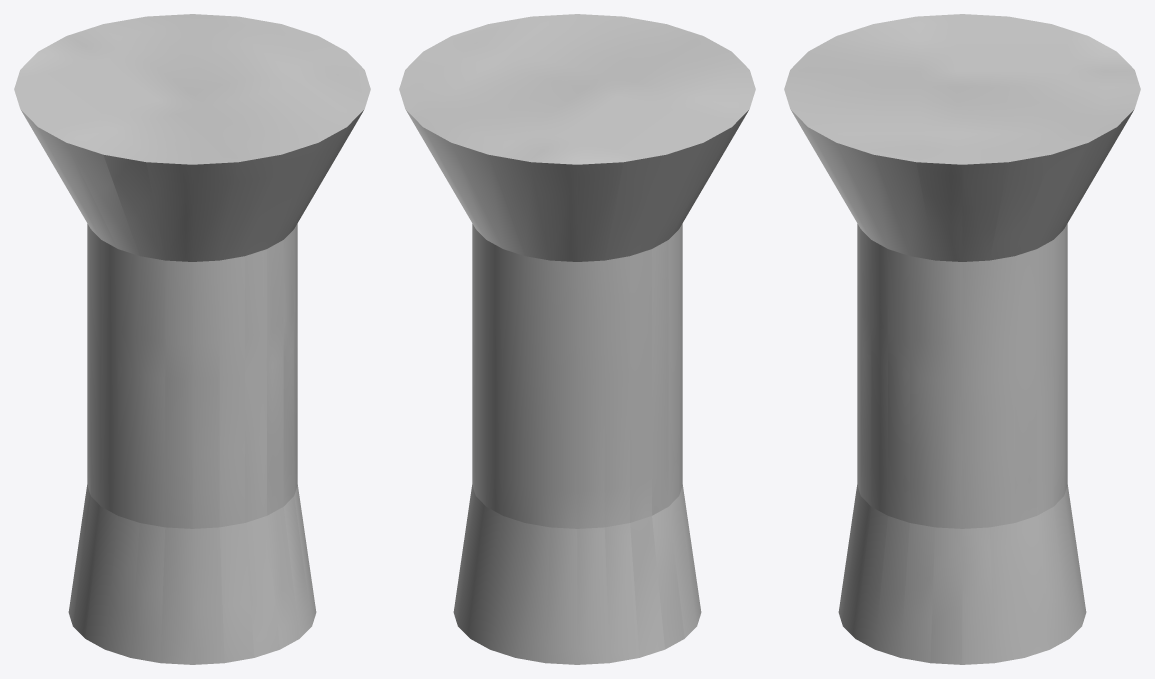
File: original-1.obj
3 views of the same model, side by side, from view 1: azimuth 30°, elevation 25°; view 2: azimuth 150°, elevation 25°; view 3: azimuth 270°, elevation 25° (orthographic).
Visible parts, largest first — view 1: nit1/nit/mesh1/mesh1-geometry#mesh1-geometry; view 2: nit1/nit/mesh1/mesh1-geometry#mesh1-geometry; view 3: nit1/nit/mesh1/mesh1-geometry#mesh1-geometry.
Boxes of the visible parts, x1=… form: nit1/nit/mesh1/mesh1-geometry#mesh1-geometry: x1=14, y1=14, x2=370, y2=664; nit1/nit/mesh1/mesh1-geometry#mesh1-geometry: x1=399, y1=14, x2=755, y2=664; nit1/nit/mesh1/mesh1-geometry#mesh1-geometry: x1=784, y1=14, x2=1140, y2=664.
Size of the model in its own units: 0.0274 by 0.0443 by 0.0274.
